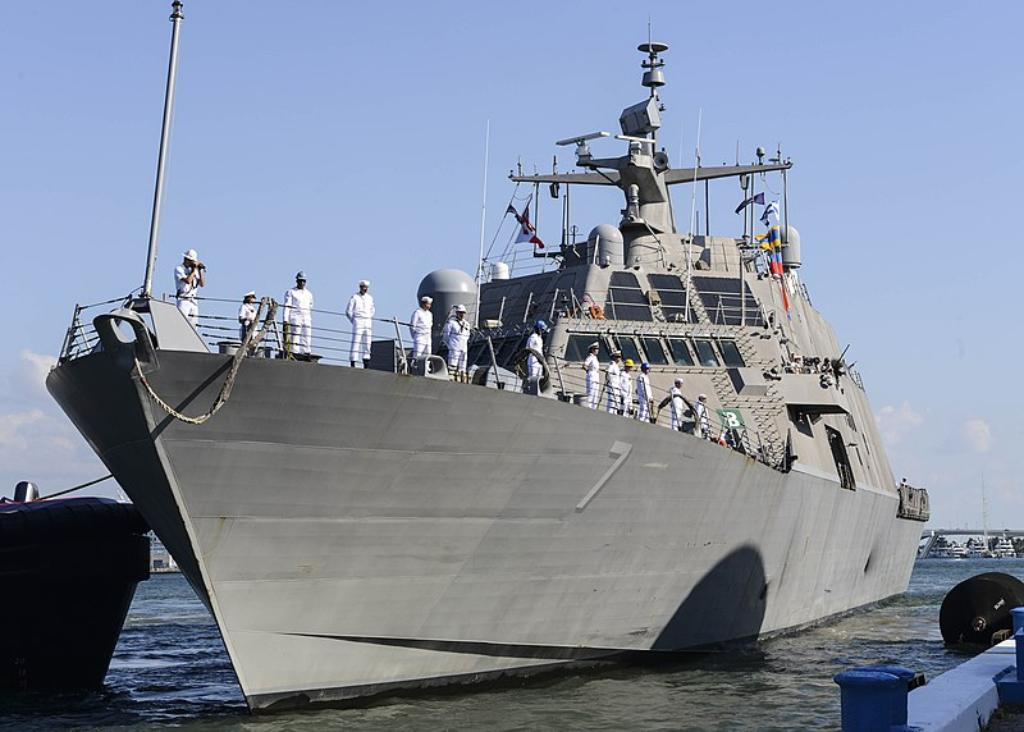Warship: (41, 0, 929, 712)
